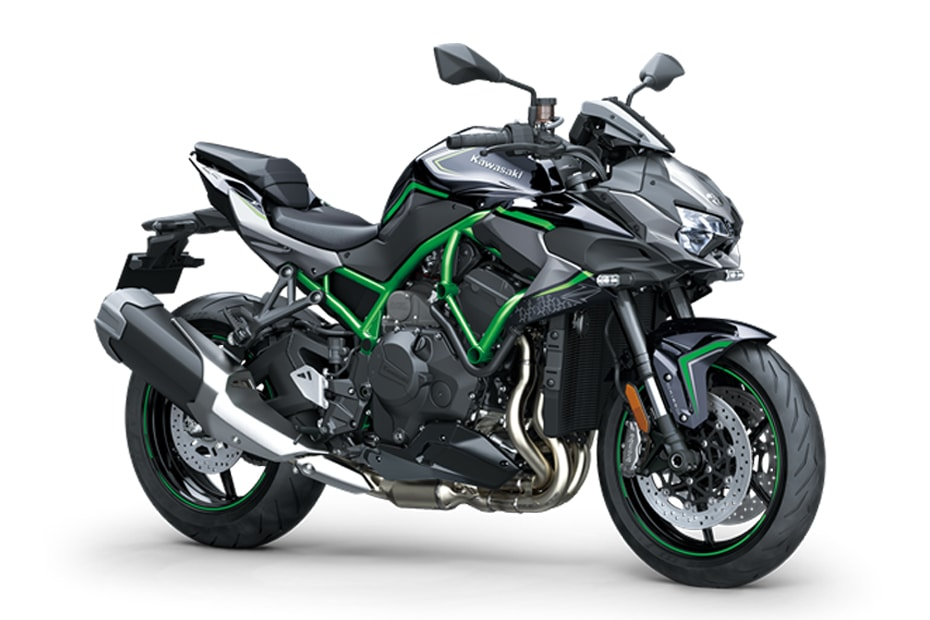motorcycle: (112, 98, 822, 588)
